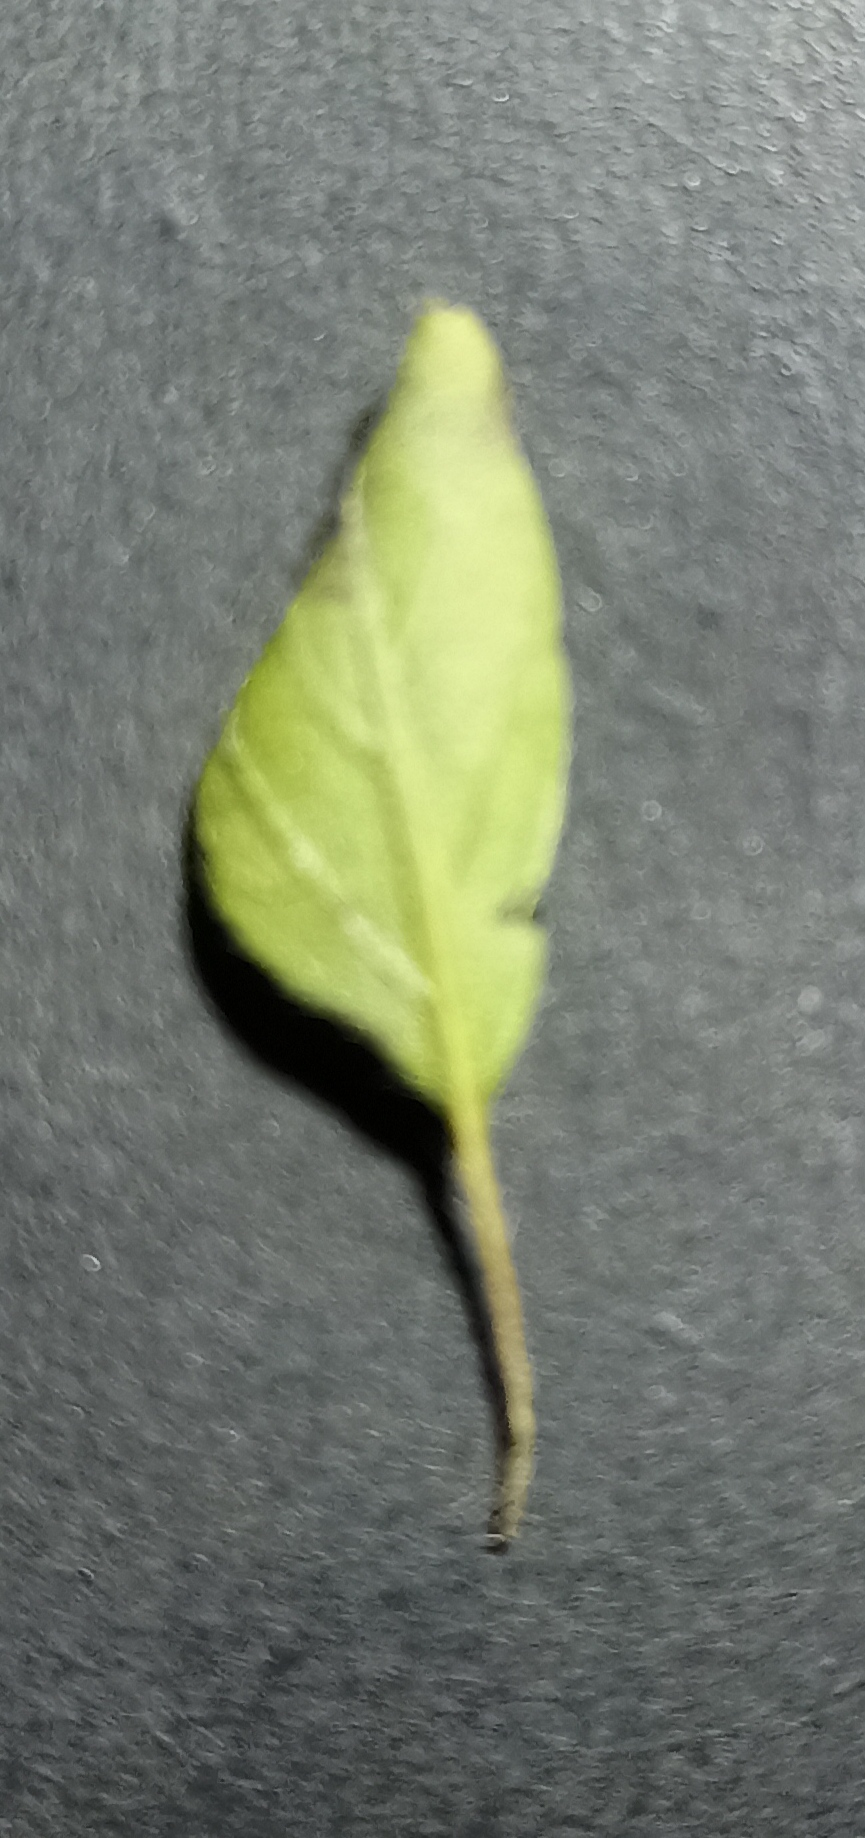Unhealthy: (183, 287, 609, 1107)
